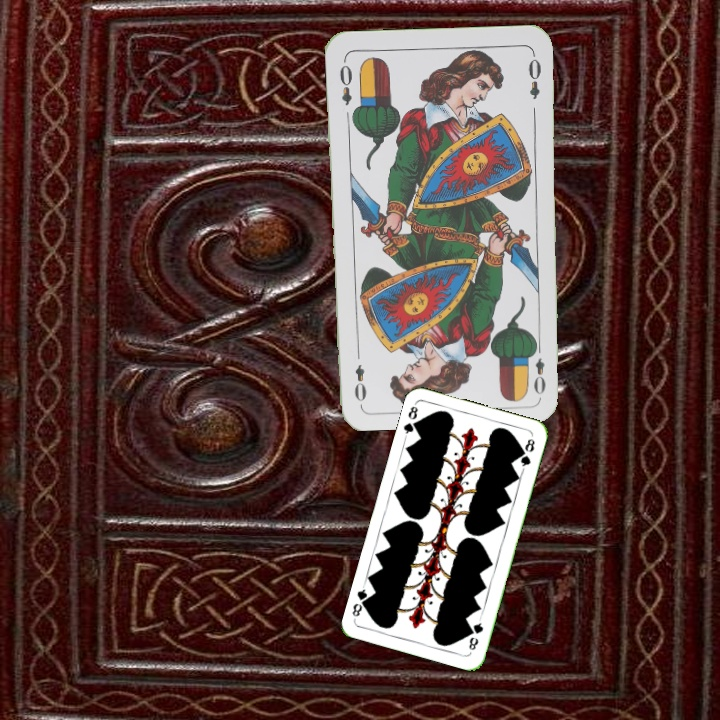EO: (528, 339, 548, 397), (335, 56, 354, 108)
G8: (399, 400, 422, 440), (465, 615, 486, 653)
